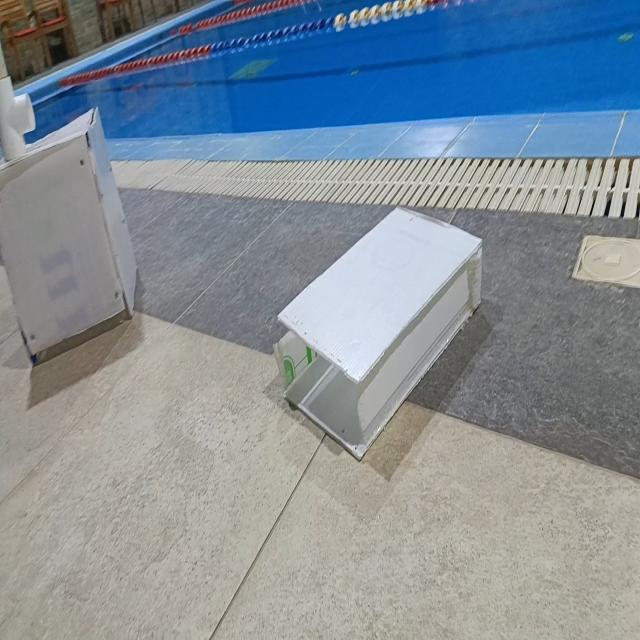Cube: (1, 104, 137, 363)
Cuboid: (273, 203, 483, 461)
